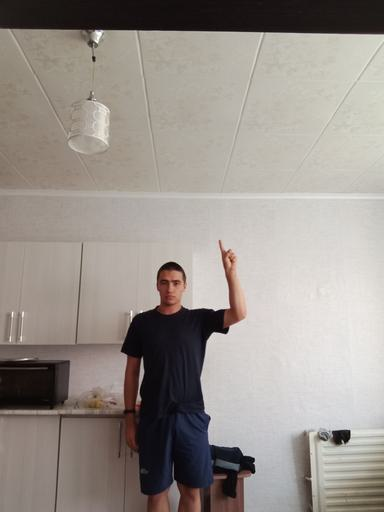one: (216, 238, 239, 273)
